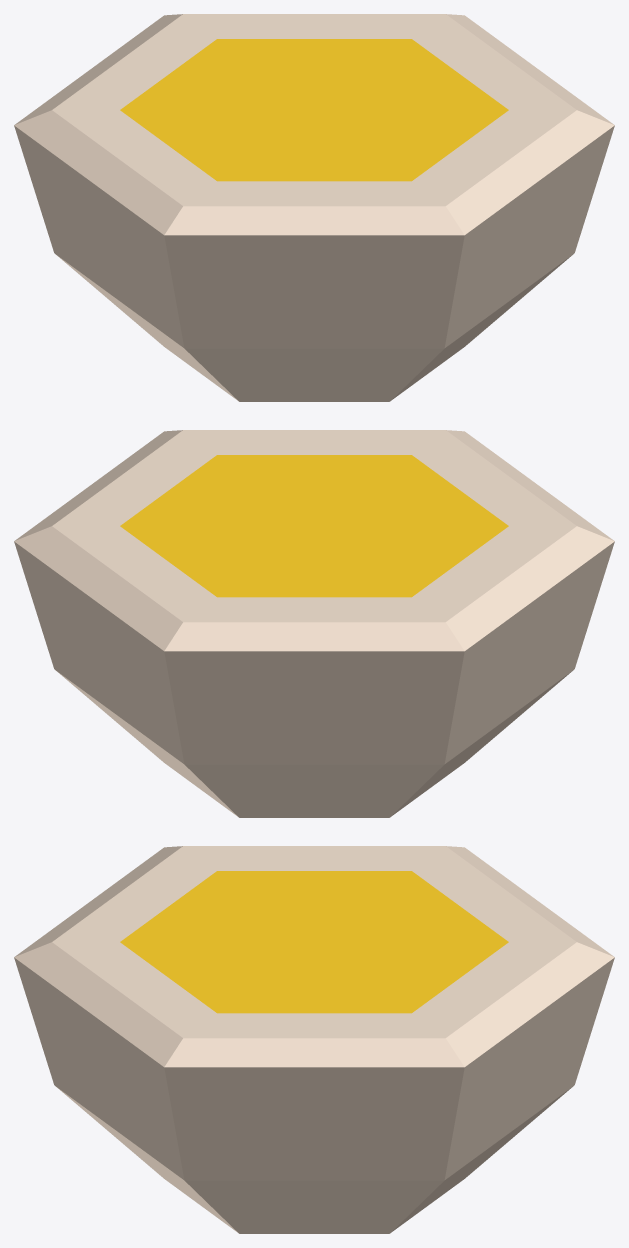
The model's file is egg-open.glb.
The picture shows the model from 3 angles, top to bottom: view 1: azimuth 30°, elevation 25°; view 2: azimuth 150°, elevation 25°; view 3: azimuth 270°, elevation 25°; orthographic projection.
Visible parts, largest first — view 1: egg-open; view 2: egg-open; view 3: egg-open.
Part boxes in pixels (box(x1,y1,x2,y2)): egg-open: box(14, 14, 614, 401); egg-open: box(14, 430, 614, 817); egg-open: box(14, 846, 614, 1233).
Bounding box in the file's own units: 0.1299 × 0.0746 × 0.15.
1 material, 1 textured.
